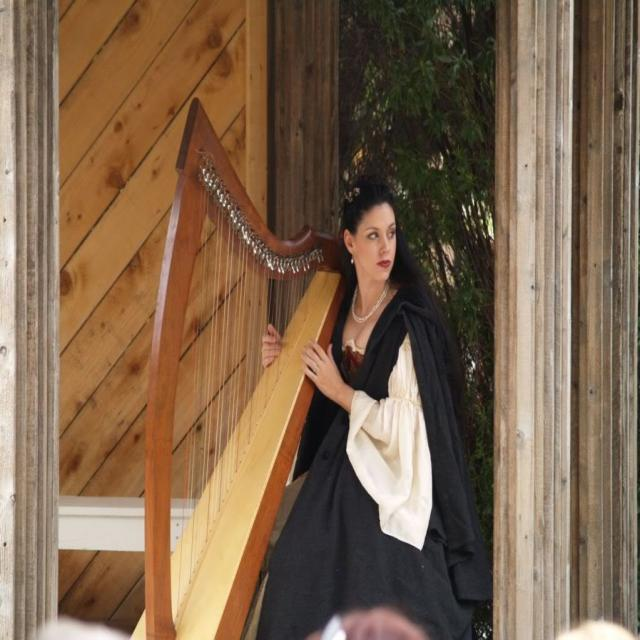harp: (123, 93, 362, 639)
